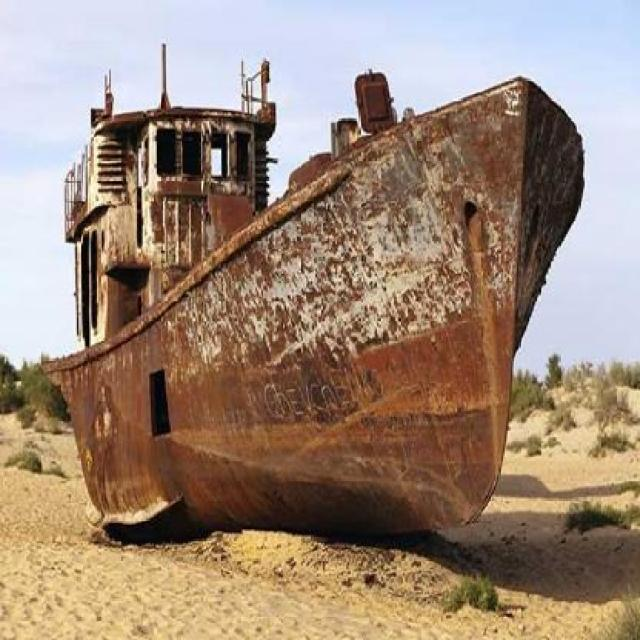corrosion: (43, 42, 585, 533)
